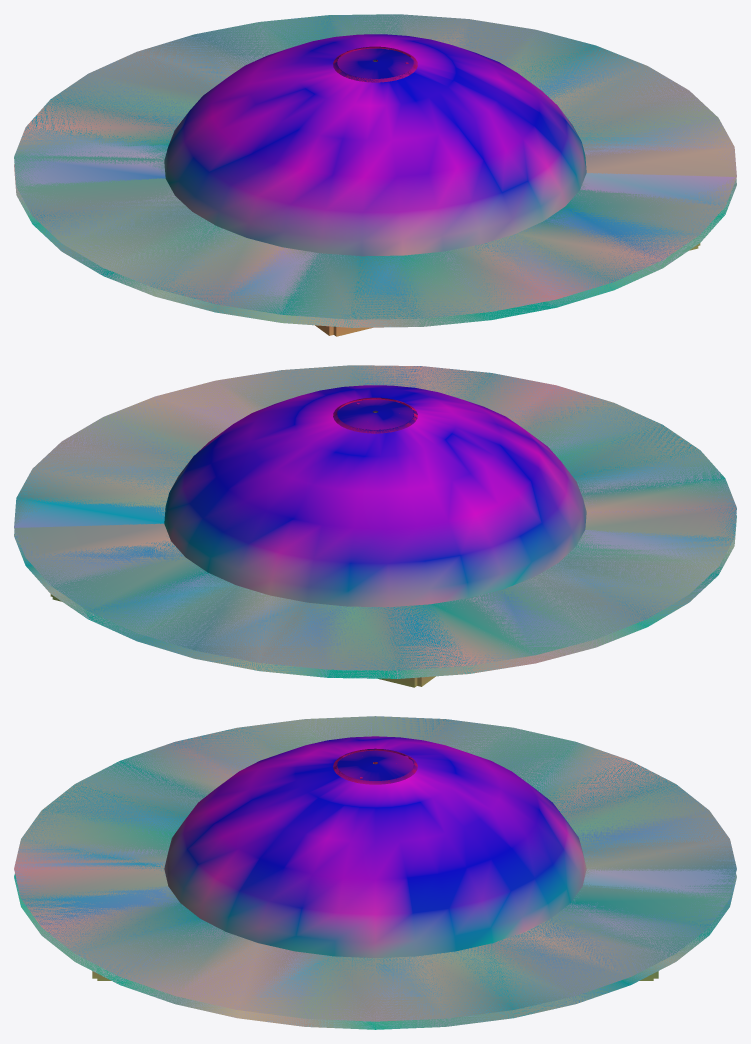
Rendered from palace_dome_12m.glb.
3 views of the same model, one above another, from view 1: azimuth 30°, elevation 25°; view 2: azimuth 150°, elevation 25°; view 3: azimuth 270°, elevation 25° (orthographic).
Visible parts, largest first — view 1: dome_pendentive_top, dome_shell_out, dome_pendentive_top_in, dome_pendentive, dome_pendentive_in, dome_eye_disc, dome_oculus; view 2: dome_pendentive_top, dome_shell_out, dome_pendentive_top_in, dome_pendentive, dome_pendentive_in, dome_eye_disc, dome_oculus; view 3: dome_pendentive_top, dome_shell_out, dome_pendentive_top_in, dome_pendentive, dome_pendentive_in, dome_eye_disc, dome_oculus.
Boxes of the visible parts, <box> form: dome_pendentive_top: <box>14,14,736,319</box>; dome_shell_out: <box>164,34,586,256</box>; dome_pendentive_top_in: <box>14,14,736,319</box>; dome_pendentive: <box>14,164,736,327</box>; dome_pendentive_in: <box>14,165,736,327</box>; dome_eye_disc: <box>337,48,413,78</box>; dome_oculus: <box>333,46,417,82</box>; dome_pendentive_top: <box>14,365,736,670</box>; dome_shell_out: <box>164,385,586,607</box>; dome_pendentive_top_in: <box>14,365,736,670</box>; dome_pendentive: <box>14,515,736,678</box>; dome_pendentive_in: <box>14,516,736,678</box>; dome_eye_disc: <box>337,399,413,429</box>; dome_oculus: <box>333,397,417,433</box>; dome_pendentive_top: <box>14,716,736,1021</box>; dome_shell_out: <box>164,736,586,957</box>; dome_pendentive_top_in: <box>14,716,736,1021</box>; dome_pendentive: <box>14,874,736,1029</box>; dome_pendentive_in: <box>14,874,736,1029</box>; dome_eye_disc: <box>337,750,413,780</box>; dome_oculus: <box>333,748,417,784</box>.
Bounding box in the file's own units: 20.8 × 4.13 × 20.8.
